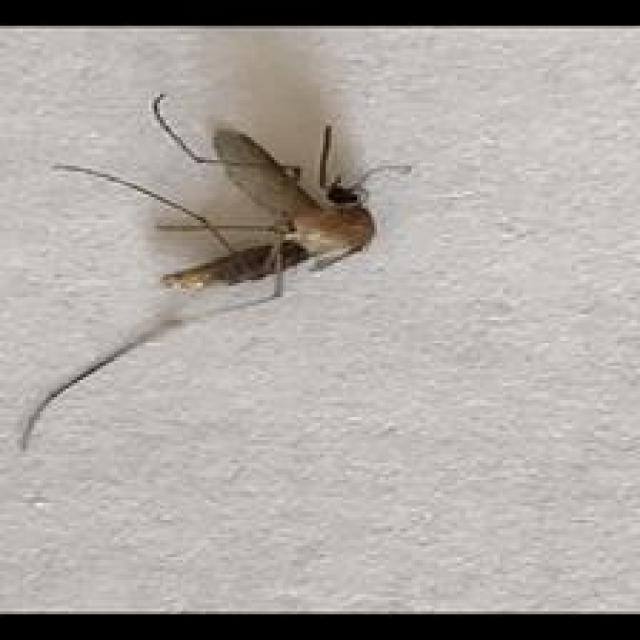Culex: (19, 90, 410, 453)
